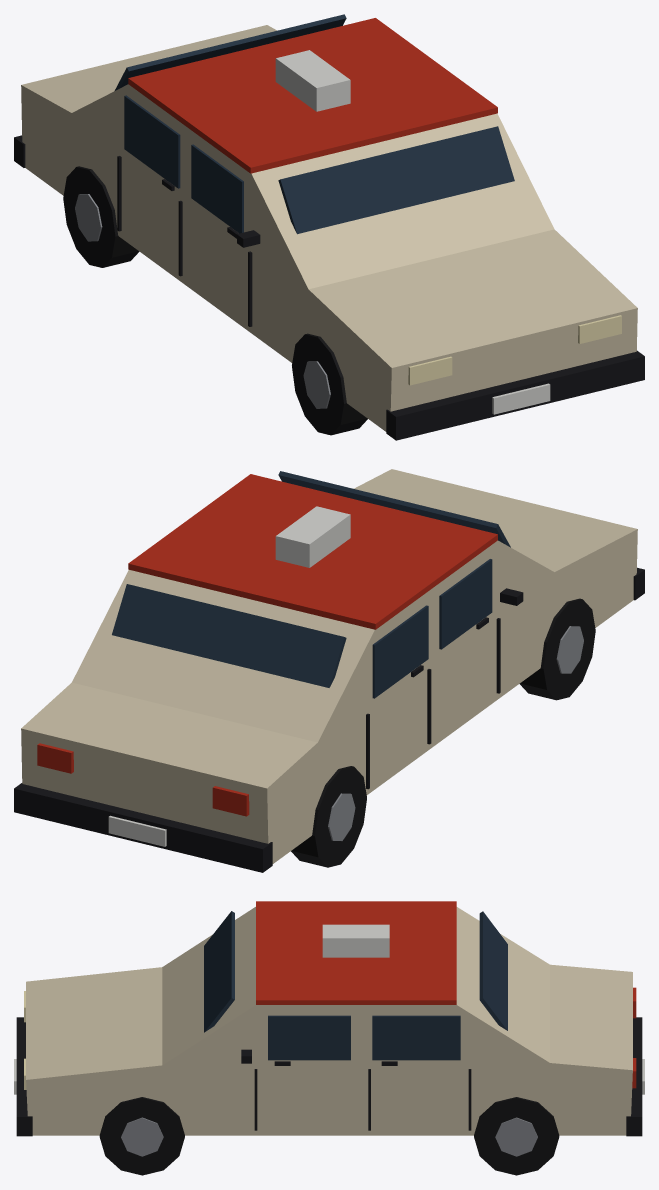
File: veh_taxi-dubai.4da624929be8.glb
The picture shows the model from 3 angles, top to bottom: view 1: azimuth 30°, elevation 25°; view 2: azimuth 150°, elevation 25°; view 3: azimuth 270°, elevation 25°; orthographic projection. The views are drawn at different scales.
Visible parts, largest first — view 1: body, wheels; view 2: body, wheels; view 3: body, wheels.
Boxes of the visible parts, left/top/right/bottom form: body: left=14, top=14, right=644, bottom=440; wheels: left=63, top=166, right=367, bottom=435; body: left=14, top=469, right=644, bottom=872; wheels: left=291, top=598, right=595, bottom=867; body: left=14, top=901, right=644, bottom=1136; wheels: left=99, top=1097, right=559, bottom=1175.
Bounding box in the file's own units: 1.98 × 1.6 × 4.72.
